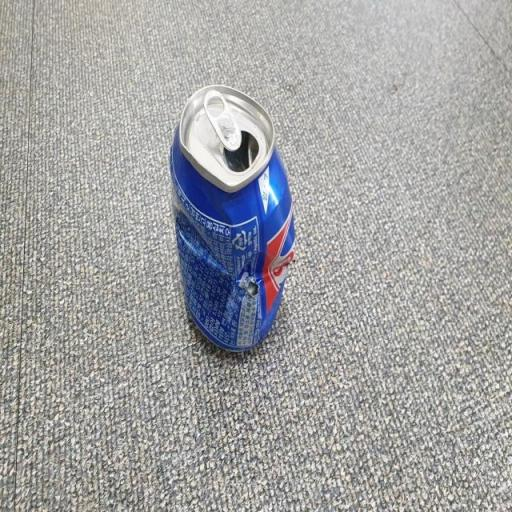metal: (133, 21, 343, 465)
